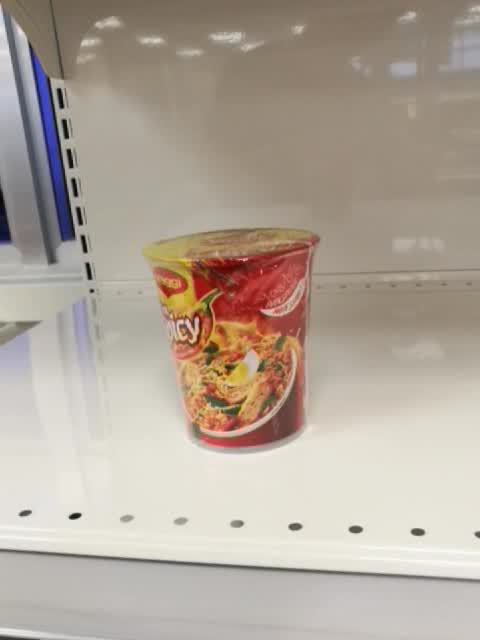maggi: (141, 228, 324, 455)
